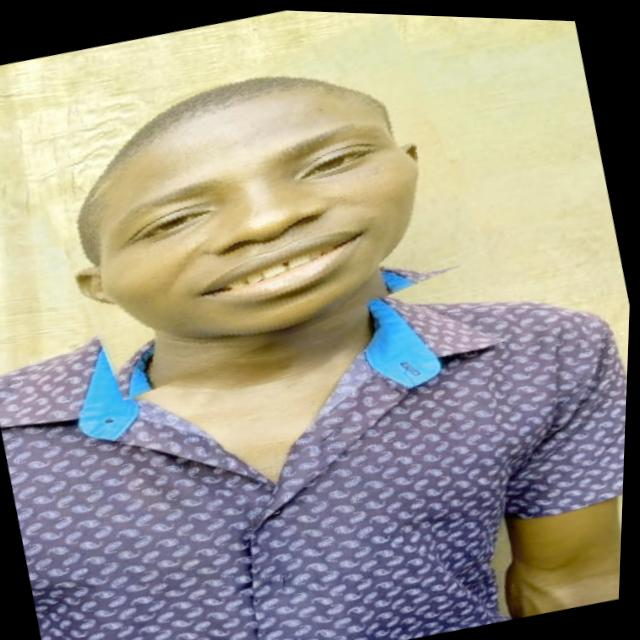happy: (18, 6, 498, 401)
